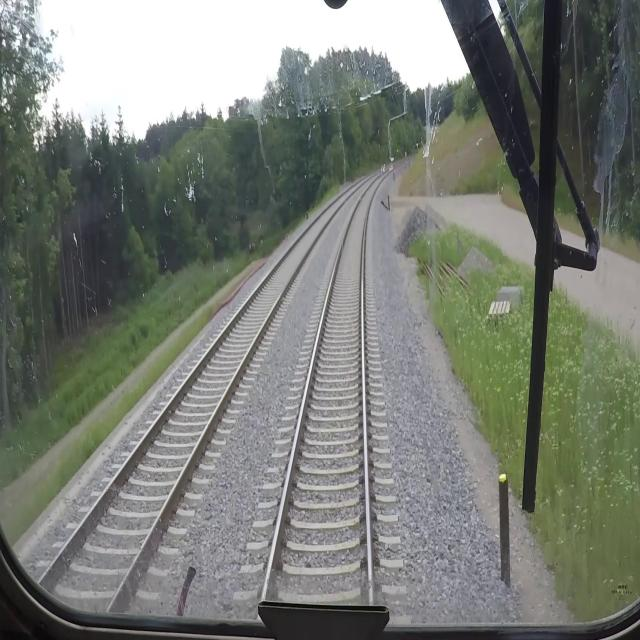rail-track: (76, 170, 380, 568), (271, 170, 389, 586)
